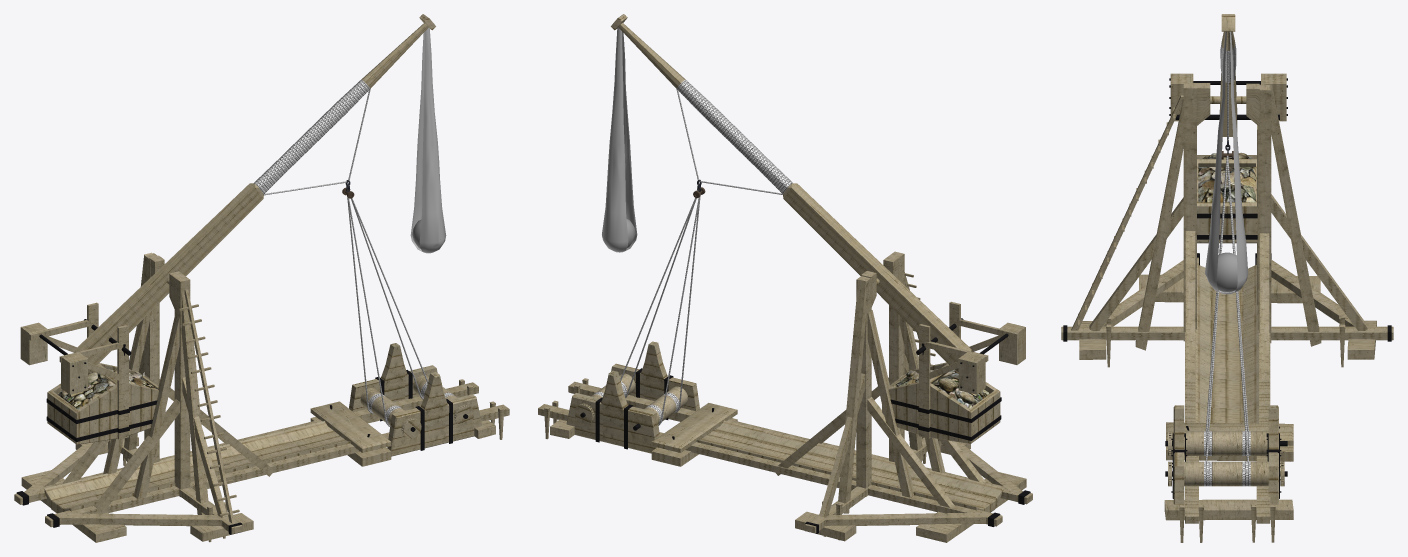
The model's file is Mangonel.FBX.
3 views of the same model, side by side, from view 1: azimuth 30°, elevation 25°; view 2: azimuth 150°, elevation 25°; view 3: azimuth 270°, elevation 25° (orthographic). The views are drawn at different scales.
Parts seen in each view (by area): view 1: object11, object8, object9, object3, object2, object22, object21, object16, object12, object19, object20, object4 (+4 smaller); view 2: object11, object8, object3, object9, object2, object22, object21, object16, object12, object19, object4, object23 (+3 smaller); view 3: object11, object8, object7, object2, object12, object22, object20, object14, object3, object4, object15, object1 (+4 smaller).
Part boxes in pixels (bbox=[...]): object11: bbox=[14, 23, 509, 542]; object8: bbox=[44, 279, 350, 513]; object9: bbox=[74, 183, 263, 365]; object3: bbox=[352, 14, 482, 456]; object2: bbox=[410, 27, 446, 253]; object22: bbox=[47, 363, 165, 444]; object21: bbox=[29, 302, 128, 439]; object16: bbox=[254, 80, 369, 193]; object12: bbox=[264, 88, 428, 426]; object19: bbox=[39, 334, 157, 441]; object20: bbox=[57, 369, 155, 409]; object4: bbox=[16, 319, 468, 534]; object11: bbox=[538, 23, 1032, 542]; object8: bbox=[696, 278, 1003, 512]; object3: bbox=[566, 14, 695, 453]; object9: bbox=[783, 183, 971, 364]; object2: bbox=[602, 27, 637, 252]; object22: bbox=[882, 362, 1000, 443]; object21: bbox=[919, 301, 1018, 438]; object16: bbox=[677, 80, 792, 193]; object12: bbox=[620, 89, 782, 425]; object19: bbox=[890, 333, 1008, 440]; object4: bbox=[580, 318, 1030, 533]; object23: bbox=[958, 329, 1017, 394]; object11: bbox=[1061, 31, 1393, 542]; object8: bbox=[1195, 96, 1258, 423]; object7: bbox=[1168, 431, 1284, 486]; object2: bbox=[1205, 31, 1248, 294]; object12: bbox=[1205, 50, 1248, 461]; object22: bbox=[1197, 155, 1257, 243]; object20: bbox=[1198, 152, 1255, 202]; object14: bbox=[1175, 408, 1277, 504]; object3: bbox=[1173, 14, 1278, 504]; object4: bbox=[1063, 114, 1391, 498]; object15: bbox=[1204, 431, 1250, 486]; object1: bbox=[1208, 252, 1237, 292].
Bounding box in the file's own units: 22.66 × 19.97 × 12.1.
Materials: 21 (16 with a texture image).
